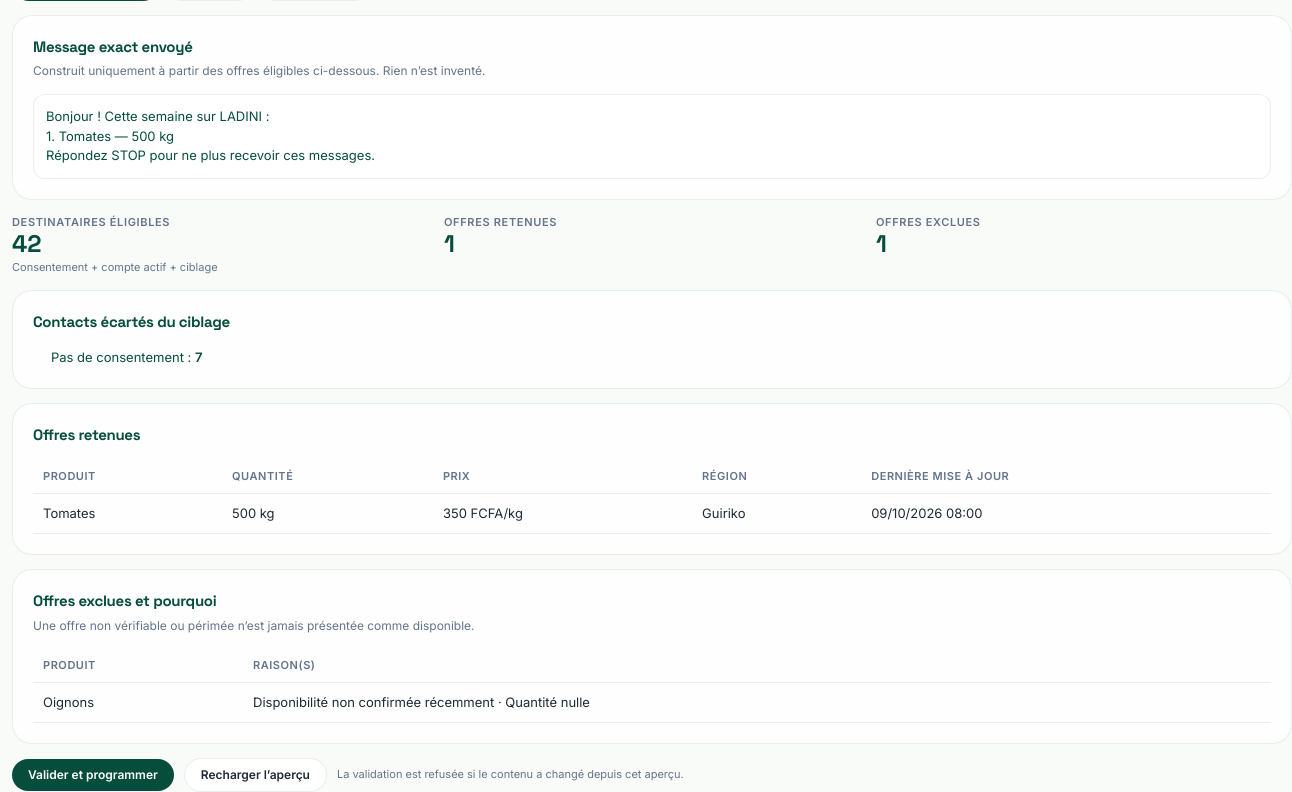
aperçu et validation › la validation envoie l'empreinte vue à l'aperçu ; un contenu modifié (409) est expliqué et l'aperçu rechargé
(page scrolled)
Click the button with test id "validate-button".
click(93, 775)  # box top-left (12, 759), bottom-right (174, 791)
(page scrolled)
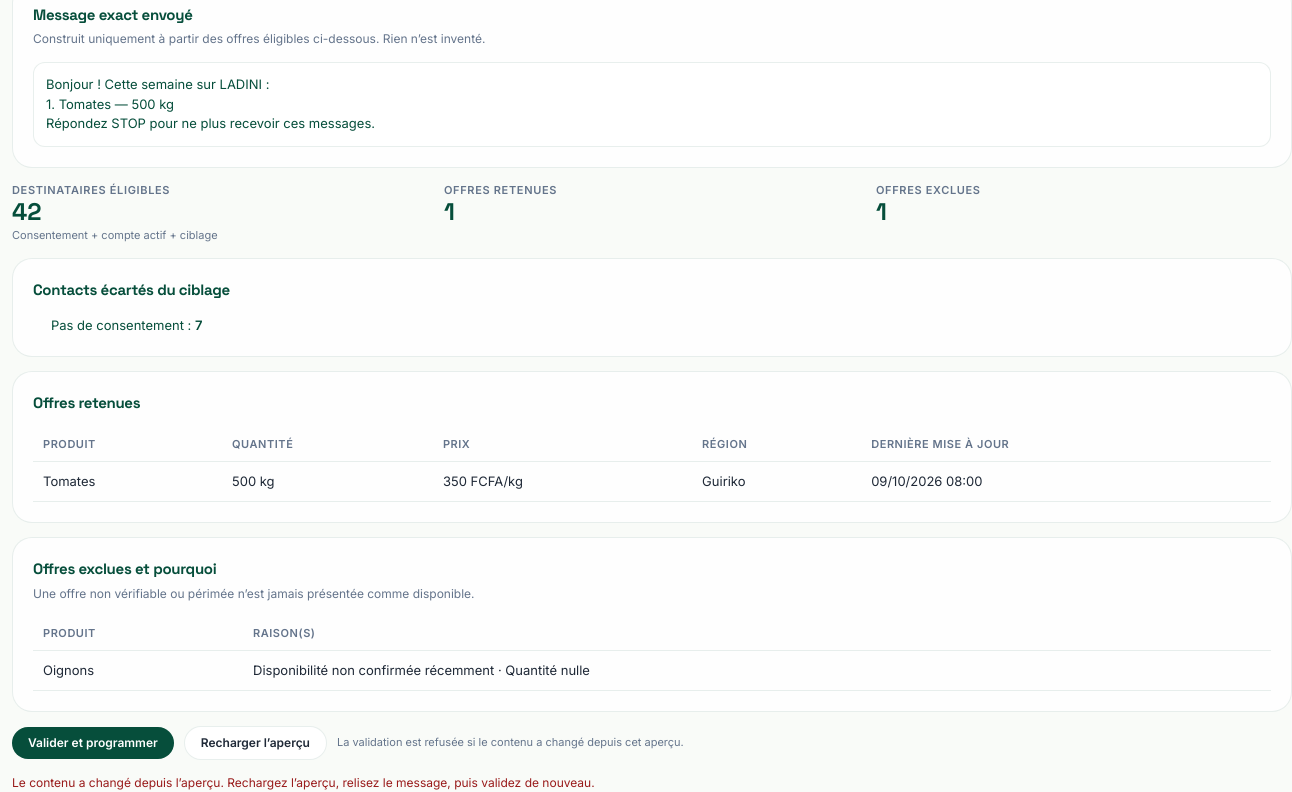
Now the message shows "Le contenu a changé depuis l’aperçu. Rechargez l’aperçu", box top-left (12, 775), bottom-right (595, 790)
